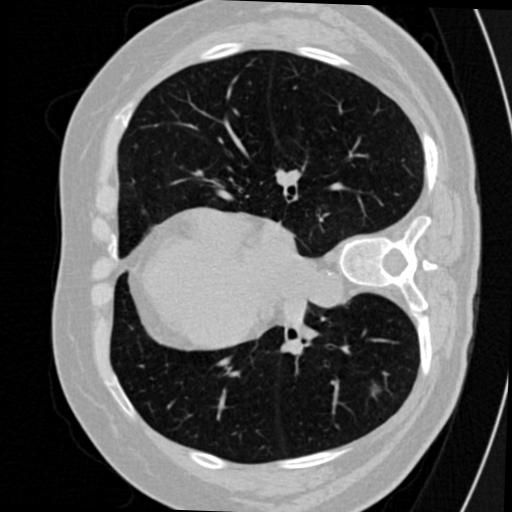nodule: (366, 380, 383, 397)
